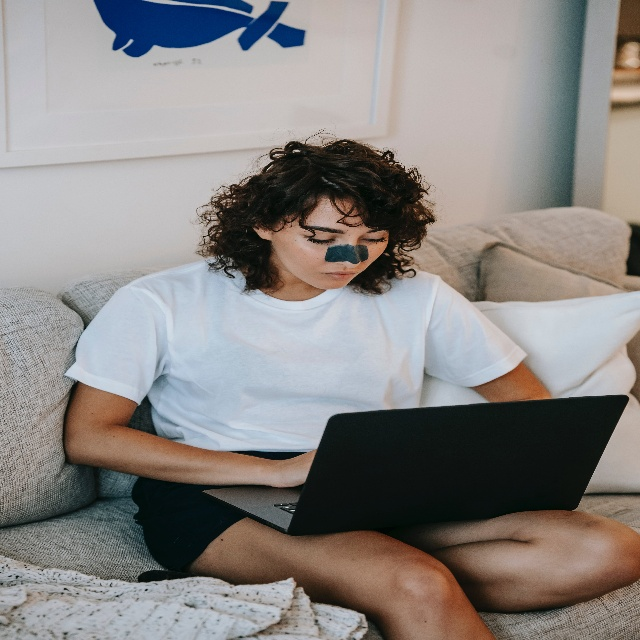Sin_guantes: (275, 449, 317, 489)
